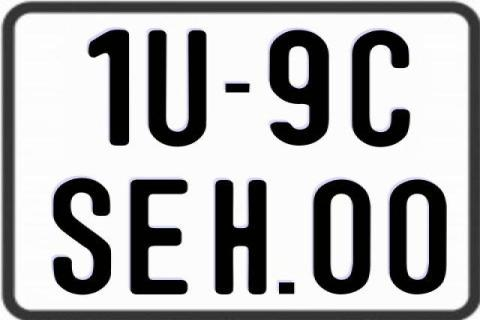0: (267, 27, 329, 144), (312, 179, 374, 296), (387, 180, 445, 300), (86, 27, 132, 145)
C: (350, 28, 410, 146)
E: (129, 178, 191, 296)
H: (212, 177, 270, 293)
S: (50, 175, 110, 295)
U: (145, 28, 207, 144)
